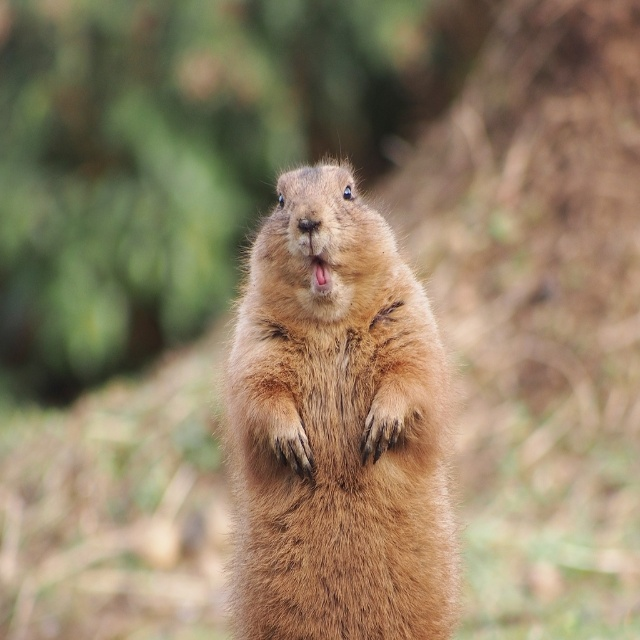Squirrel: (215, 154, 466, 640)
